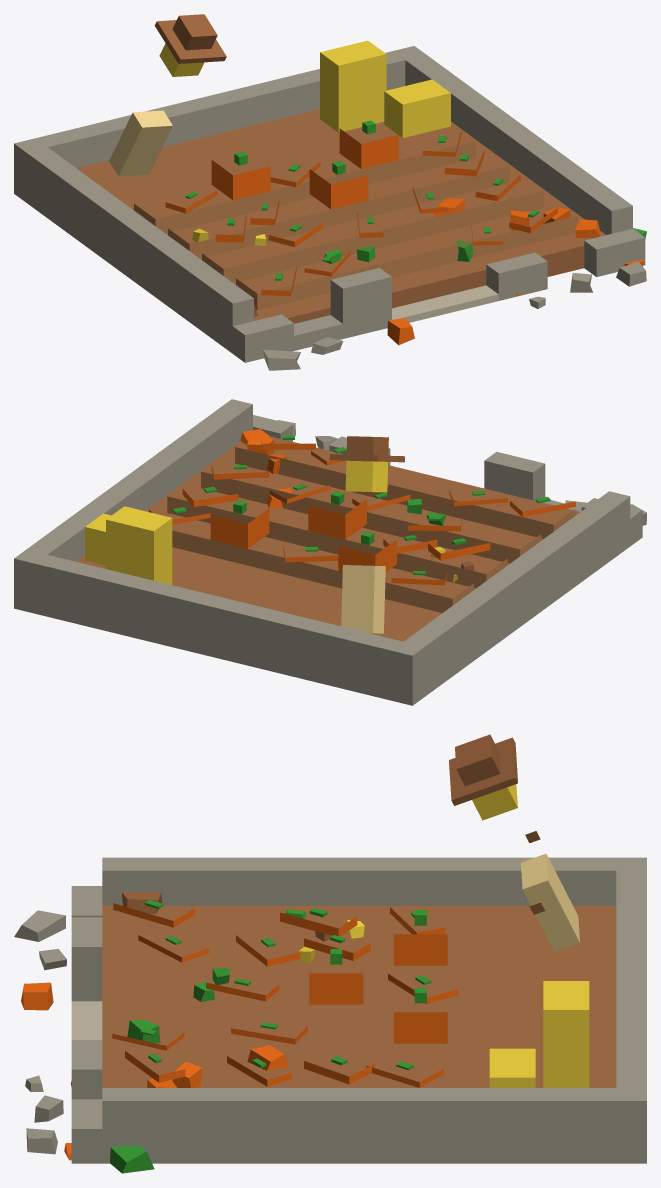
Rendered from field_t3_v3_dmg1.glb.
3 renders of one model, top to bottom at view 1: azimuth 30°, elevation 25°; view 2: azimuth 150°, elevation 25°; view 3: azimuth 270°, elevation 25°, orthographic. The views are drawn at different scales.
Parts seen in each view (by area): view 1: field_t3_v3_dmg1; view 2: field_t3_v3_dmg1; view 3: field_t3_v3_dmg1.
Boxes of the visible parts, x1,y1,x2,y2 form: field_t3_v3_dmg1: (14, 14, 646, 370); field_t3_v3_dmg1: (14, 399, 646, 705); field_t3_v3_dmg1: (14, 734, 646, 1173).
Size of the model in its own units: 0.7943 by 0.3566 by 0.8252.
Materials: 1 (1 with a texture image).
